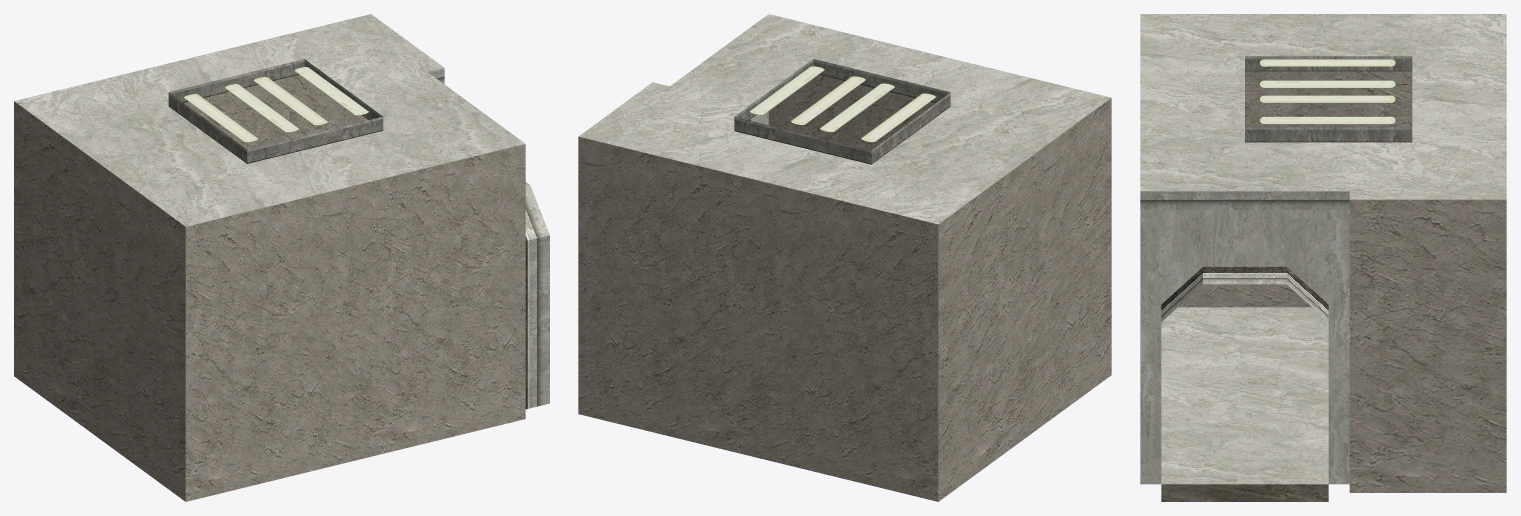
The model's file is ply_tato_assoc_hall_civ_s01_r8_closetb_mesh_closetb.fbx.
3 renders of one model, left to right at view 1: azimuth 30°, elevation 25°; view 2: azimuth 150°, elevation 25°; view 3: azimuth 270°, elevation 25°, orthographic. The views are drawn at different scales.
Parts seen in each view (by area): view 1: mesh_node; view 2: mesh_node; view 3: mesh_node.
Part boxes in pixels (x1,y1,x2,y2): mesh_node: (14,14,549,501); mesh_node: (578,14,1111,501); mesh_node: (1140,14,1506,501).
Size of the model in its own units: 5.5 by 4.07 by 4.38.
